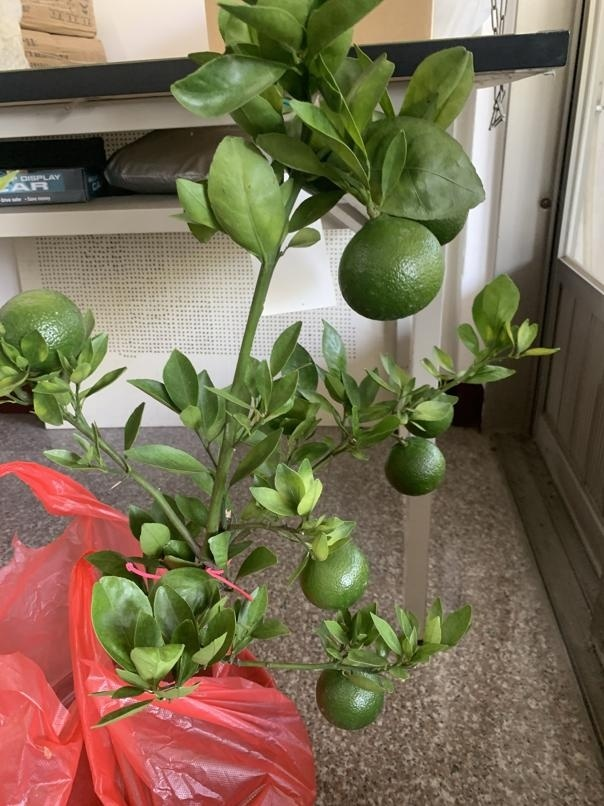Tangerine: (333, 213, 447, 322), (3, 280, 81, 368), (295, 544, 369, 610), (314, 666, 385, 729), (385, 434, 448, 498)
